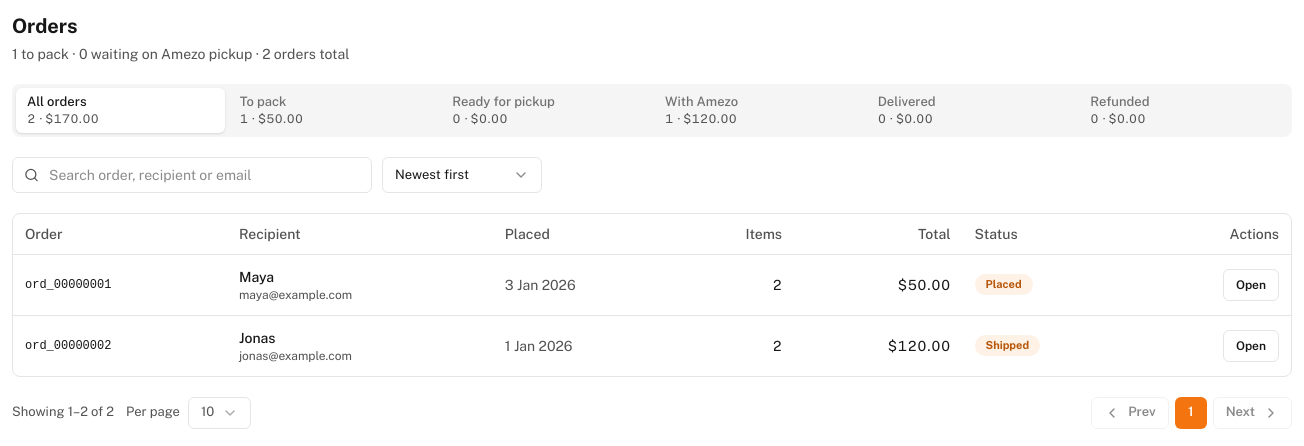
SellerOrders › filters to a bucket from the tab strip
Expected: the text "Maya" is shown, [239, 268, 274, 284]
Click the tab "With Amezo 1 · $120.00" at (758, 110), box [654, 88, 863, 133]
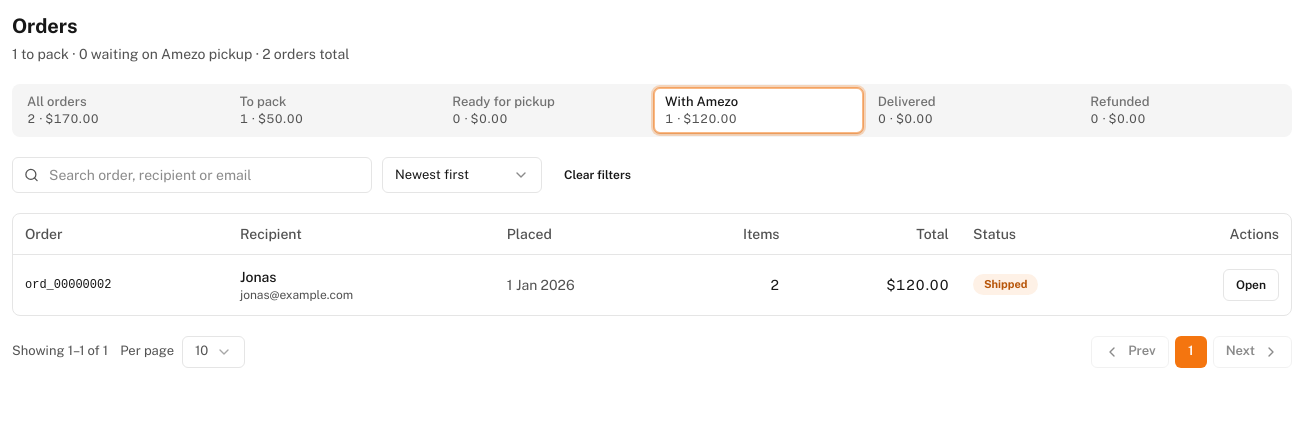
Expected: the text "Jonas" is shown, [240, 268, 276, 284]
Expected: the text "Maya" is gone
